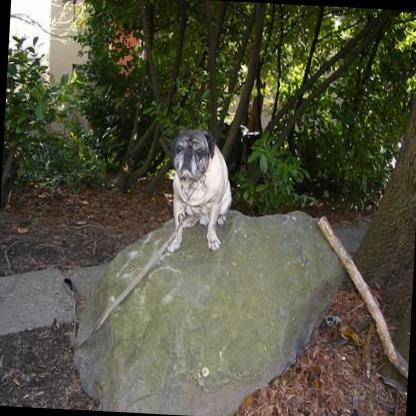pug: (162, 121, 233, 255)
